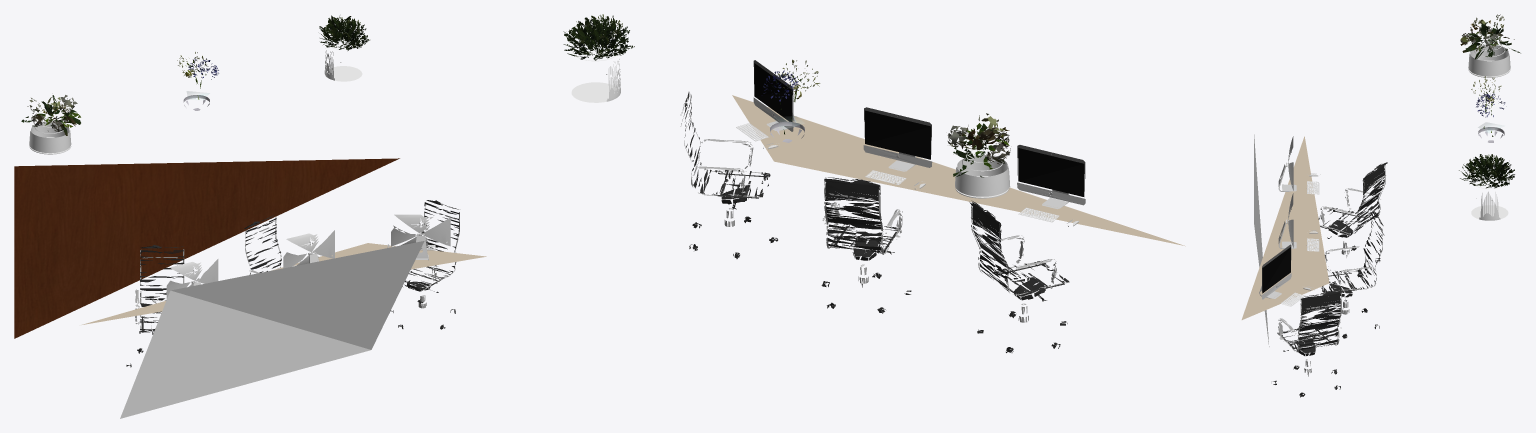
Rendered from bench_pod3.glb.
3 views of the same model, side by side, from view 1: azimuth 30°, elevation 25°; view 2: azimuth 150°, elevation 25°; view 3: azimuth 270°, elevation 25° (orthographic). The views are drawn at different scales.
Parts seen in each view (by area): view 1: Group4, Group2, Group5, Group13, Group21, Group18, Group8, Component4_1, Group26, Component4_3, Component4_2, skpE97_1; view 2: Group5, Component4_2, Group8, Group18, Group21, Component4_1, Group13, Group26, Component6_2, Component6_1, Component4_3, skpE97_1 (+1 smaller); view 3: Group5, Component4_3, Group21, Component4_1, Group13, Group26, Group2, Component4_2, skpE97_1, Component6_3, Component6_1, Component6_2 (+4 smaller).
Boxes of the visible parts, box(x1,y1,x2,y2) form: Group4: box(14, 158, 399, 338); Group2: box(120, 241, 424, 418); Group5: box(82, 243, 486, 324); Group13: box(391, 214, 450, 248); Group21: box(29, 116, 71, 154); Group18: box(283, 230, 334, 268); Group8: box(166, 259, 218, 299); Component4_1: box(140, 245, 184, 331); Group26: box(324, 36, 362, 81); Component4_3: box(402, 200, 459, 289); Component4_2: box(244, 215, 281, 272); skpE97_1: box(41, 95, 80, 135); Group5: box(732, 95, 1185, 246); Component4_2: box(824, 177, 900, 253); Group8: box(1017, 145, 1085, 205); Group18: box(863, 107, 932, 167); Group21: box(955, 148, 1010, 198); Component4_1: box(969, 200, 1069, 294); Group13: box(753, 60, 793, 131); Group26: box(571, 43, 620, 102); Component6_2: box(822, 179, 902, 287); Component6_1: box(971, 203, 1069, 322); Component4_3: box(682, 92, 770, 196); skpE97_1: box(947, 123, 999, 150); Group5: box(1241, 136, 1329, 319); Component4_3: box(1277, 291, 1342, 350); Group21: box(1468, 40, 1510, 77); Component4_1: box(1318, 162, 1387, 233); Group13: box(1262, 244, 1291, 299); Group26: box(1471, 174, 1508, 220); Group2: box(1254, 134, 1269, 346); Component4_2: box(1321, 211, 1383, 292); skpE97_1: box(1462, 22, 1503, 59); Component6_3: box(1277, 292, 1341, 376); Component6_1: box(1319, 164, 1385, 257); Component6_2: box(1324, 221, 1384, 314).
Size of what is drawn, in the model's own units: 1.61 by 0.9343 by 1.01.
Materials: 27 (13 with a texture image).
